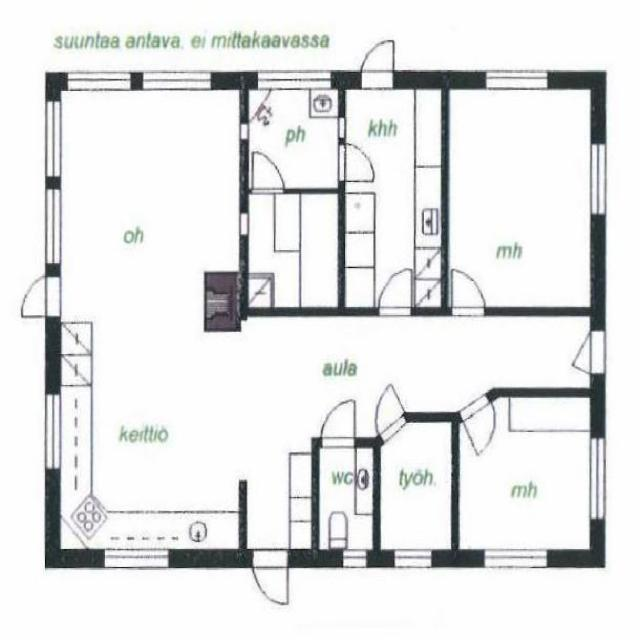door: (459, 392, 506, 454), (364, 384, 409, 442), (557, 331, 607, 375), (252, 550, 288, 611), (13, 276, 61, 317), (362, 33, 393, 90), (322, 396, 355, 447), (452, 266, 485, 316), (379, 266, 411, 316), (252, 149, 284, 194), (338, 144, 376, 180)
